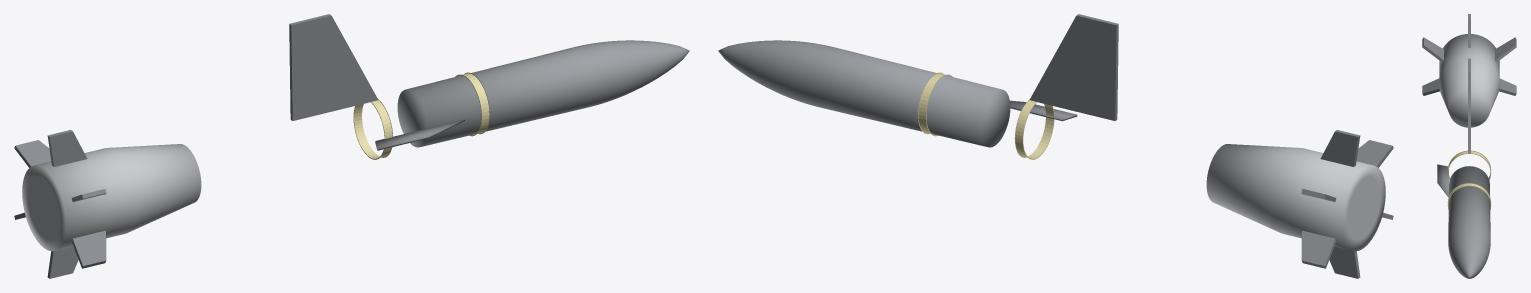
Rendered from US_STRAT_TLAM_N_LOD0.fbx.
The picture shows the model from 3 angles, left to right: view 1: azimuth 30°, elevation 25°; view 2: azimuth 150°, elevation 25°; view 3: azimuth 270°, elevation 25°; orthographic projection. The views are drawn at different scales.
Visible parts, largest first — view 1: WPN_US_STRAT_TLAM_N_LOD0_Body, WPN_US_STRAT_TLAM_N_LOD0_Tail, WPN_US_STRAT_TLAM_N_LOD0_Wings, WPN_US_STRAT_TLAM_N_LOD0_Fins, WPN_US_STRAT_TLAM_N_LOD0_Marking, WPN_US_STRAT_TLAM_N_LOD0_Detail; view 2: WPN_US_STRAT_TLAM_N_LOD0_Body, WPN_US_STRAT_TLAM_N_LOD0_Tail, WPN_US_STRAT_TLAM_N_LOD0_Wings, WPN_US_STRAT_TLAM_N_LOD0_Fins, WPN_US_STRAT_TLAM_N_LOD0_Marking, WPN_US_STRAT_TLAM_N_LOD0_Detail; view 3: WPN_US_STRAT_TLAM_N_LOD0_Tail, WPN_US_STRAT_TLAM_N_LOD0_Body, WPN_US_STRAT_TLAM_N_LOD0_Fins, WPN_US_STRAT_TLAM_N_LOD0_Marking, WPN_US_STRAT_TLAM_N_LOD0_Detail, WPN_US_STRAT_TLAM_N_LOD0_Wings.
Part boxes in pixels (left/top/right/bottom): WPN_US_STRAT_TLAM_N_LOD0_Body: left=397, top=40, right=689, bottom=147; WPN_US_STRAT_TLAM_N_LOD0_Tail: left=22, top=144, right=201, bottom=251; WPN_US_STRAT_TLAM_N_LOD0_Wings: left=289, top=14, right=378, bottom=120; WPN_US_STRAT_TLAM_N_LOD0_Fins: left=14, top=130, right=106, bottom=278; WPN_US_STRAT_TLAM_N_LOD0_Marking: left=353, top=72, right=489, bottom=159; WPN_US_STRAT_TLAM_N_LOD0_Detail: left=375, top=119, right=464, bottom=150; WPN_US_STRAT_TLAM_N_LOD0_Body: left=718, top=40, right=1010, bottom=147; WPN_US_STRAT_TLAM_N_LOD0_Tail: left=1206, top=144, right=1385, bottom=251; WPN_US_STRAT_TLAM_N_LOD0_Wings: left=1029, top=14, right=1118, bottom=120; WPN_US_STRAT_TLAM_N_LOD0_Fins: left=1301, top=130, right=1393, bottom=278; WPN_US_STRAT_TLAM_N_LOD0_Marking: left=918, top=72, right=1054, bottom=159; WPN_US_STRAT_TLAM_N_LOD0_Detail: left=1010, top=100, right=1077, bottom=121; WPN_US_STRAT_TLAM_N_LOD0_Tail: left=1439, top=34, right=1499, bottom=127; WPN_US_STRAT_TLAM_N_LOD0_Body: left=1448, top=166, right=1490, bottom=278; WPN_US_STRAT_TLAM_N_LOD0_Fins: left=1422, top=14, right=1516, bottom=95; WPN_US_STRAT_TLAM_N_LOD0_Marking: left=1447, top=150, right=1491, bottom=209; WPN_US_STRAT_TLAM_N_LOD0_Detail: left=1437, top=164, right=1448, bottom=196; WPN_US_STRAT_TLAM_N_LOD0_Wings: left=1468, top=58, right=1470, bottom=153.
Size of the model in its own units: 6.25 by 1.16 by 1.8.
